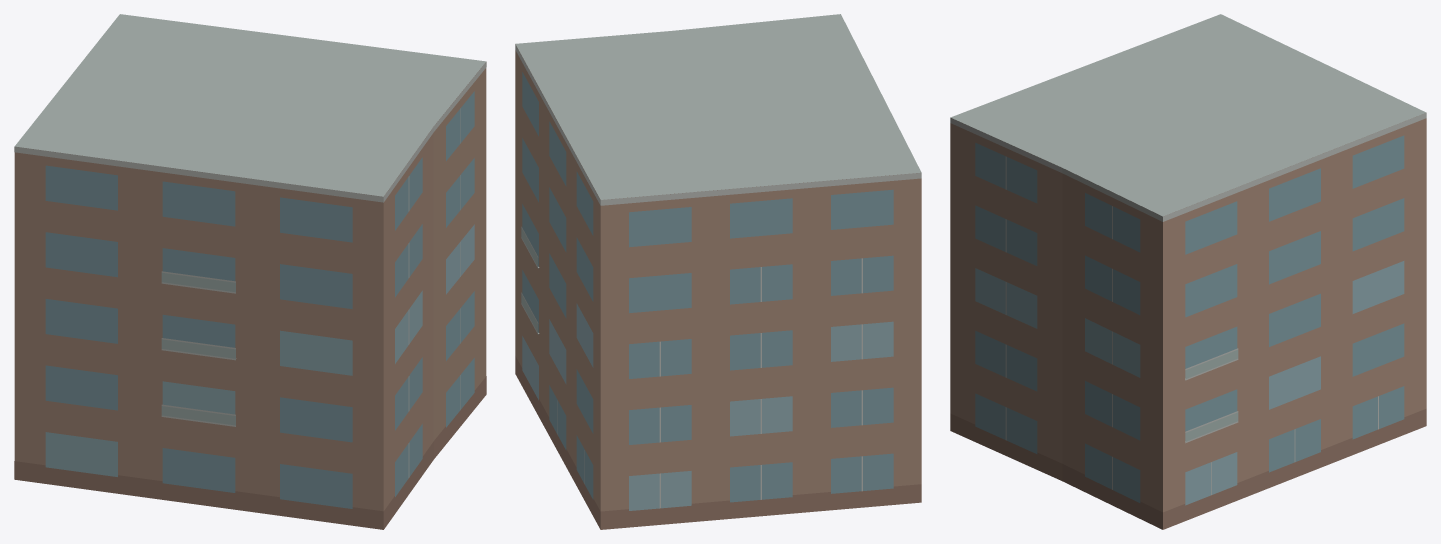
Rendered from survey-upis-32693477.glb.
3 views of the same model, side by side, from view 1: azimuth 30°, elevation 25°; view 2: azimuth 150°, elevation 25°; view 3: azimuth 270°, elevation 25° (orthographic). The views are drawn at different scales.
Parts seen in each view (by area): view 1: survey-upis-32693477.tmp; view 2: survey-upis-32693477.tmp; view 3: survey-upis-32693477.tmp.
Part boxes in pixels (left/top/right/bottom): survey-upis-32693477.tmp: left=14, top=14, right=486, bottom=529; survey-upis-32693477.tmp: left=515, top=14, right=921, bottom=529; survey-upis-32693477.tmp: left=950, top=14, right=1426, bottom=529.
Size of the model in its own units: 19.3 by 13.92 by 19.18.
